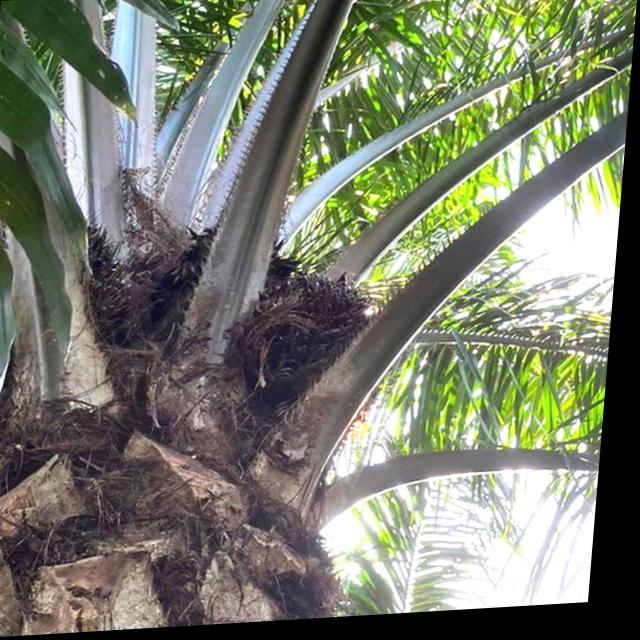ripe: (222, 265, 383, 427)
